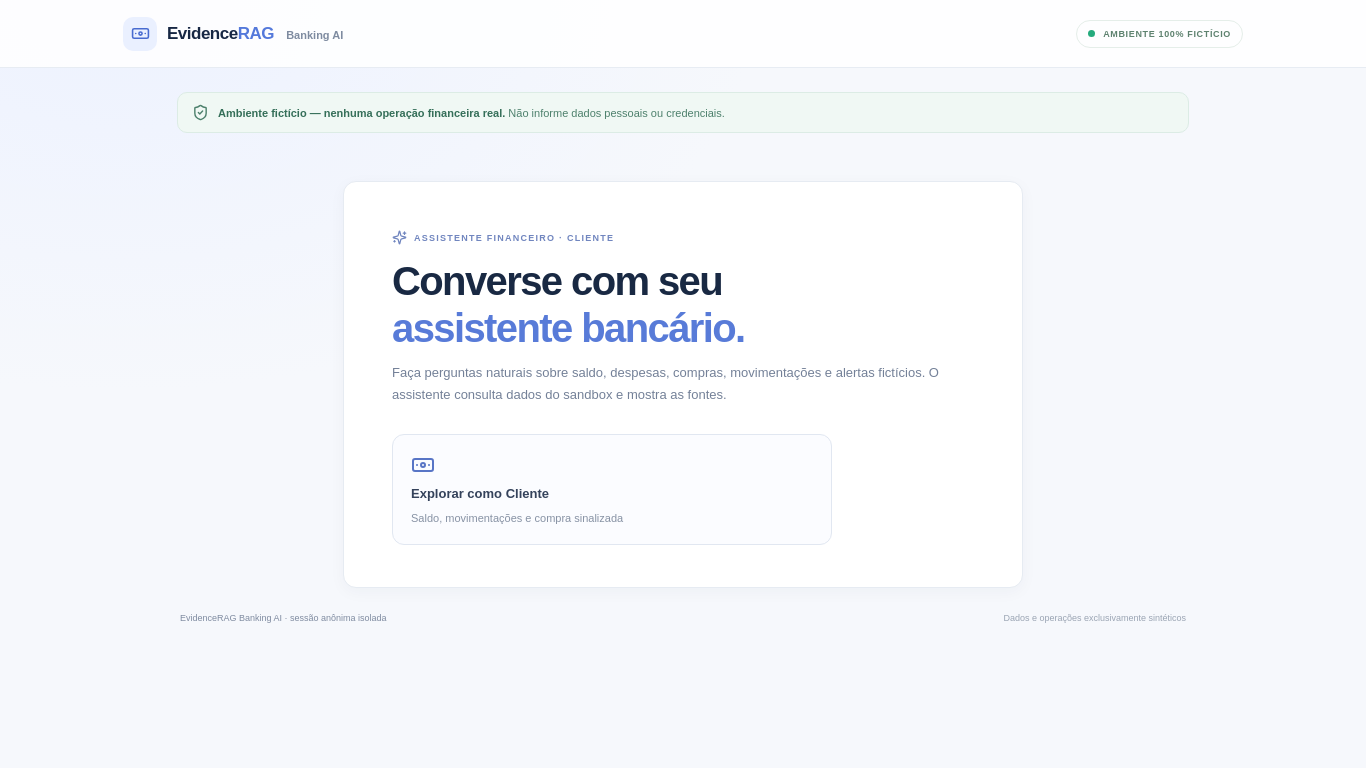
BankingDemo › shows only the Cliente experience when the public MVP flag is disabled
Click the button "Explorar como Cliente" at (480, 493), box 392,434 -> 832,545
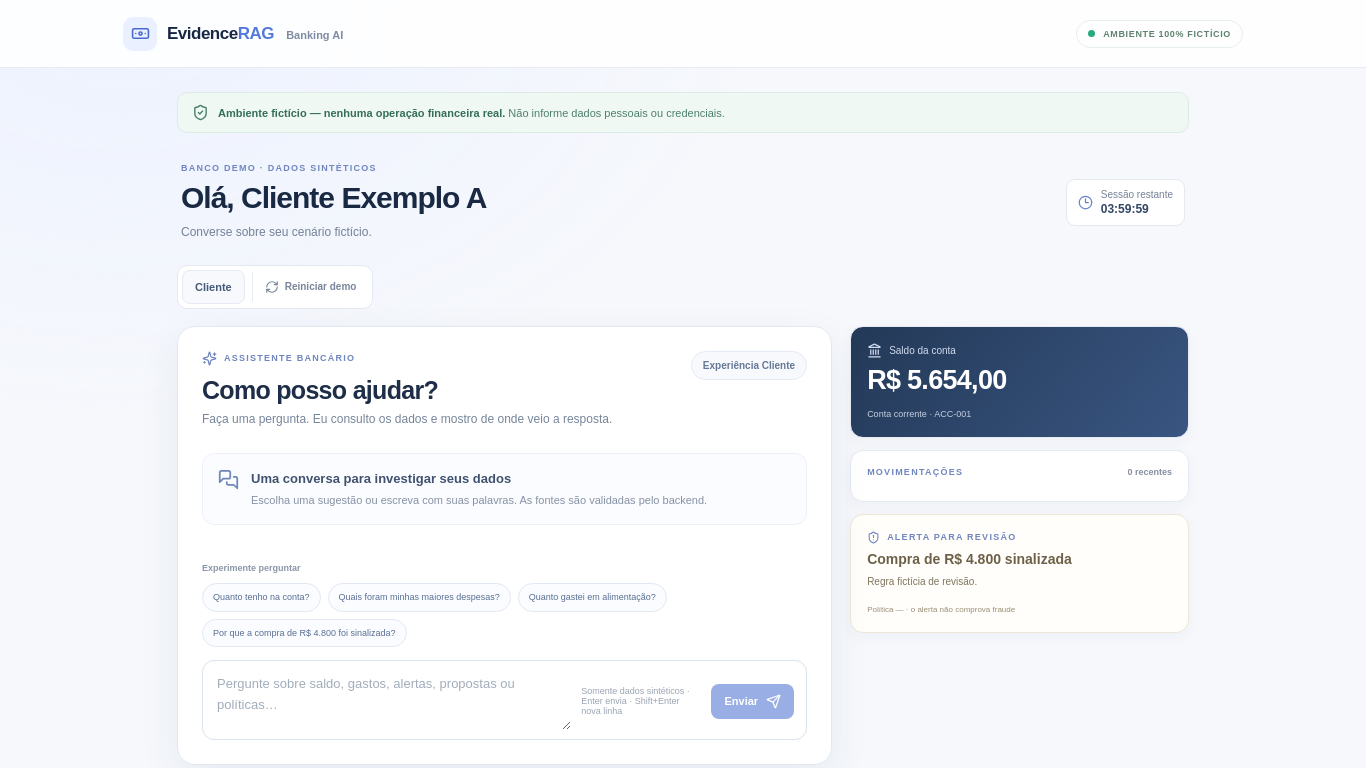
Expected: the heading "Olá, Cliente Exemplo A" is shown, 181,180 -> 486,215
Expected: the navigation bar named "Experiência Cliente" is shown, 177,265 -> 373,309
